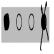correct: (4, 10, 10, 33)
no answer: (28, 11, 35, 33)
not correct: (40, 1, 50, 52)
